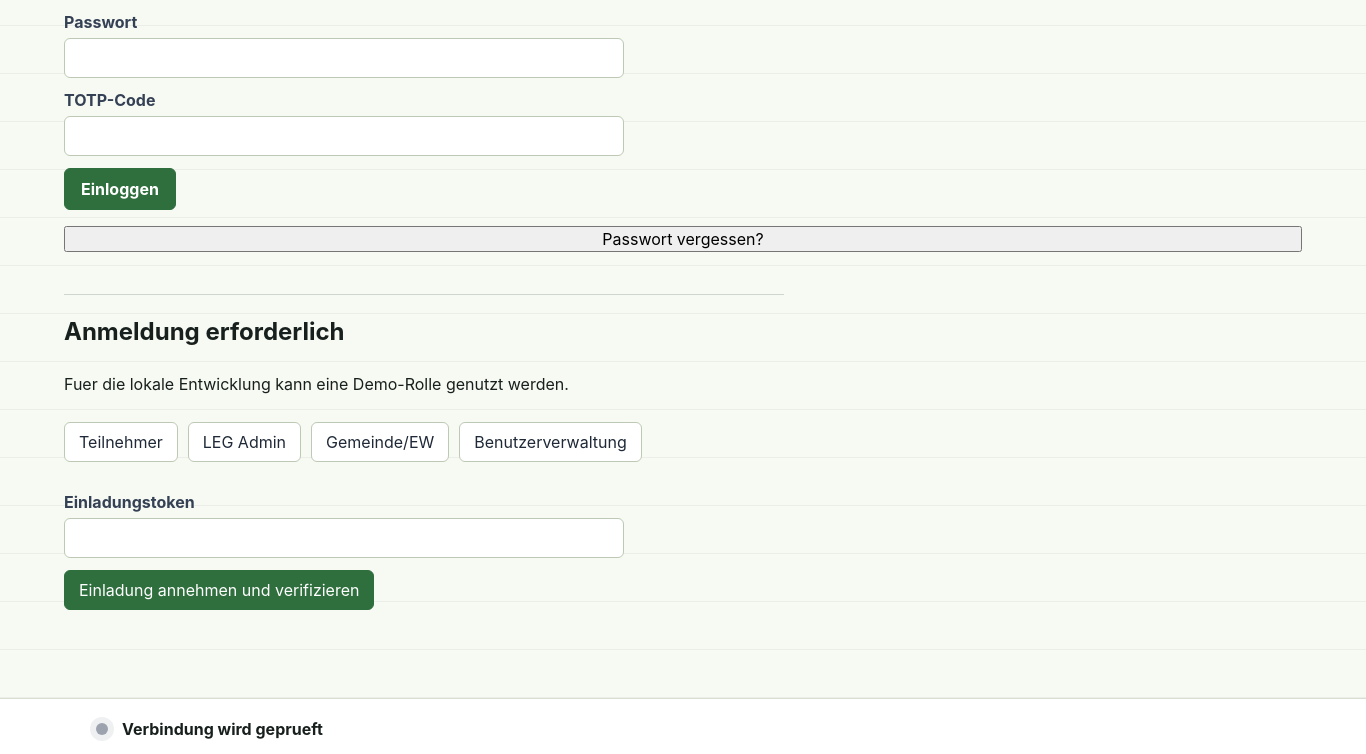
Test: Portal shell › zeigt Teilnehmern alle aktuellen Pflichtdokumente vor Zustimmung
(page scrolled)
Click the button "Teilnehmer". click: [121, 442]
box: [64, 422, 178, 462]
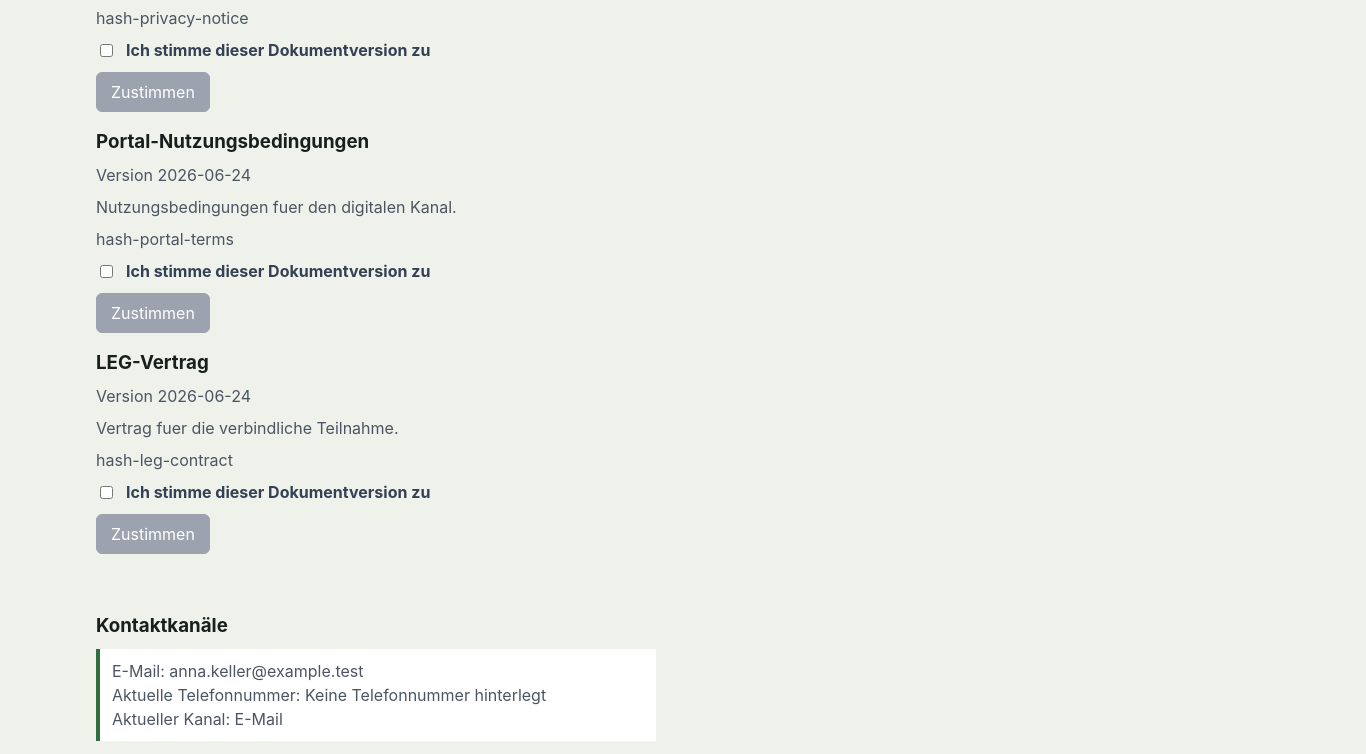
expect the heading "Portal-Nutzungsbedingungen" is shown: met, box [96, 130, 369, 153]
expect the heading "LEG-Vertrag" is shown: met, box [96, 351, 209, 374]
expect the number of checkboxes labelled "Ich stimme dieser Dokumentversion zu" is 3: met, box [100, 44, 113, 56]; [100, 264, 113, 278]; [100, 486, 113, 498]
